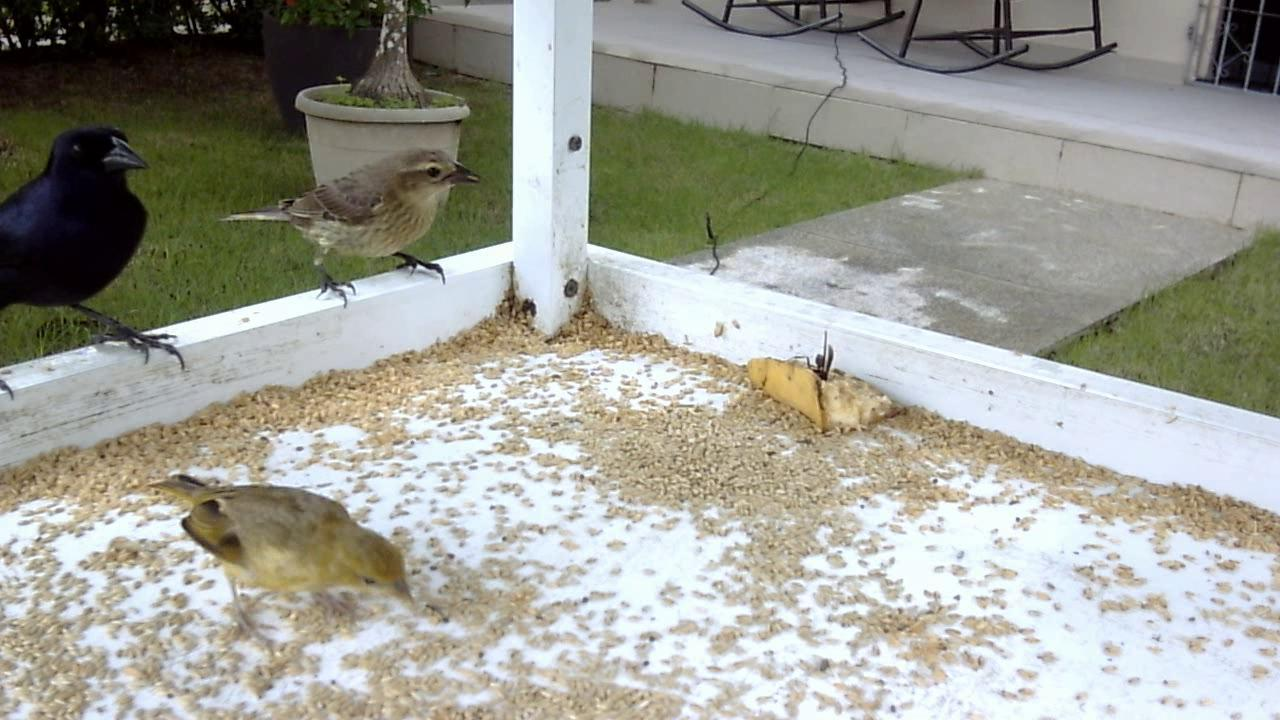canario_do_amazonas: (127, 469, 465, 653)
chupim: (1, 119, 195, 404), (219, 141, 482, 316)
